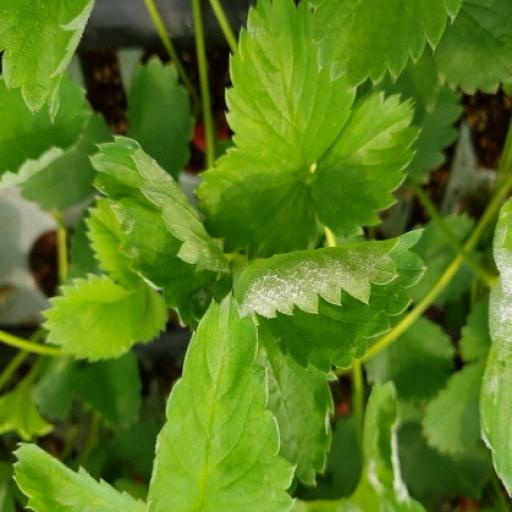Powdery Mildew Leaf: (86, 179, 234, 377), (232, 136, 428, 285), (223, 340, 359, 511), (290, 0, 425, 132), (478, 13, 511, 314)
